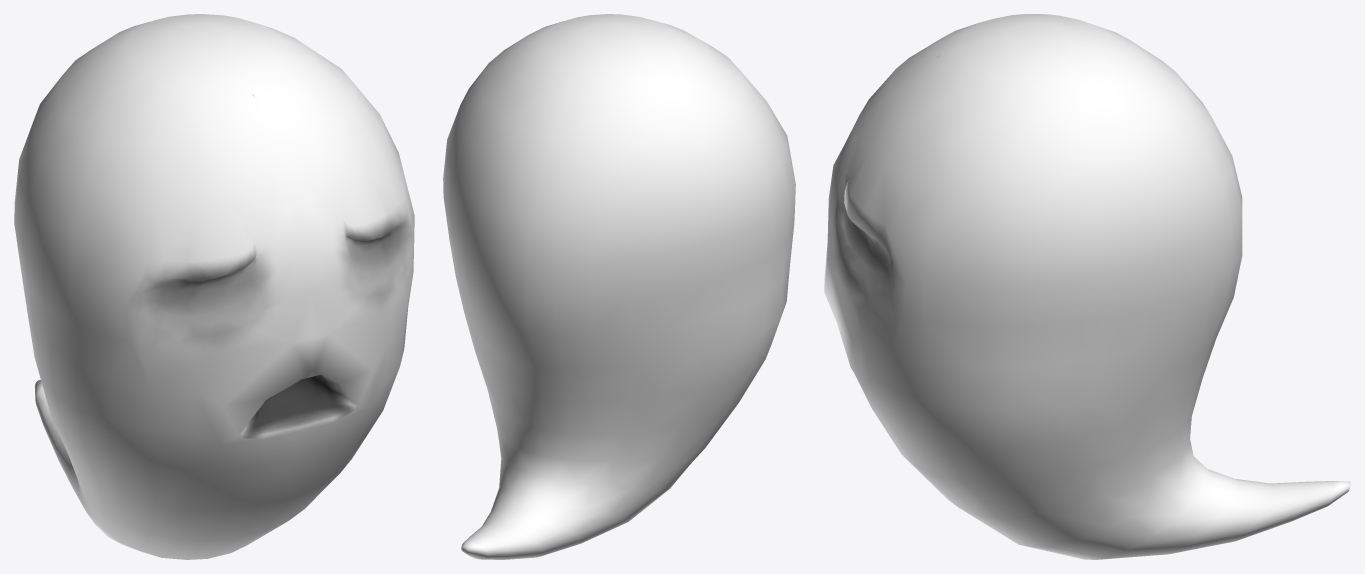
The model's file is Ghost.FBX.
3 renders of one model, left to right at view 1: azimuth 30°, elevation 25°; view 2: azimuth 150°, elevation 25°; view 3: azimuth 270°, elevation 25°, orthographic. The views are drawn at different scales.
Parts seen in each view (by area): view 1: Ghost; view 2: Ghost; view 3: Ghost.
Part boxes in pixels (x1=…): Ghost: x1=14, y1=14, x2=414, y2=559; Ghost: x1=443, y1=14, x2=795, y2=559; Ghost: x1=824, y1=14, x2=1350, y2=559.
Bounding box in the file's own units: 41.56 × 56.65 × 60.65.
Materials: 1 (1 with a texture image).
